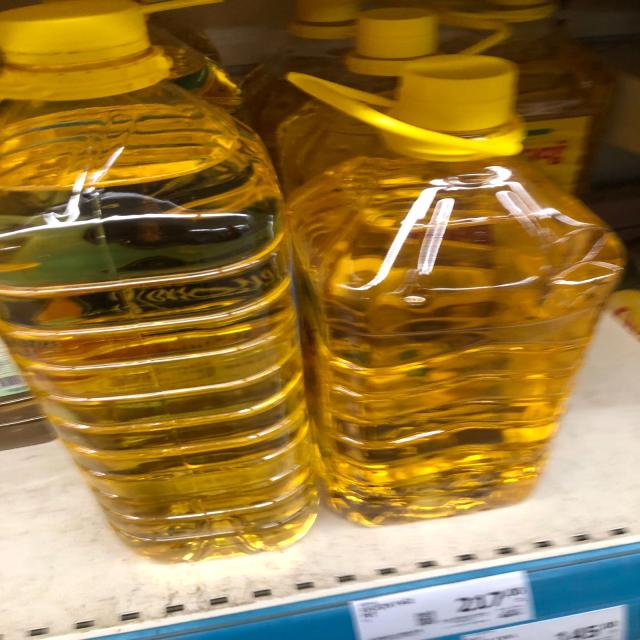olive oil: (1, 3, 327, 565), (268, 38, 640, 520)
